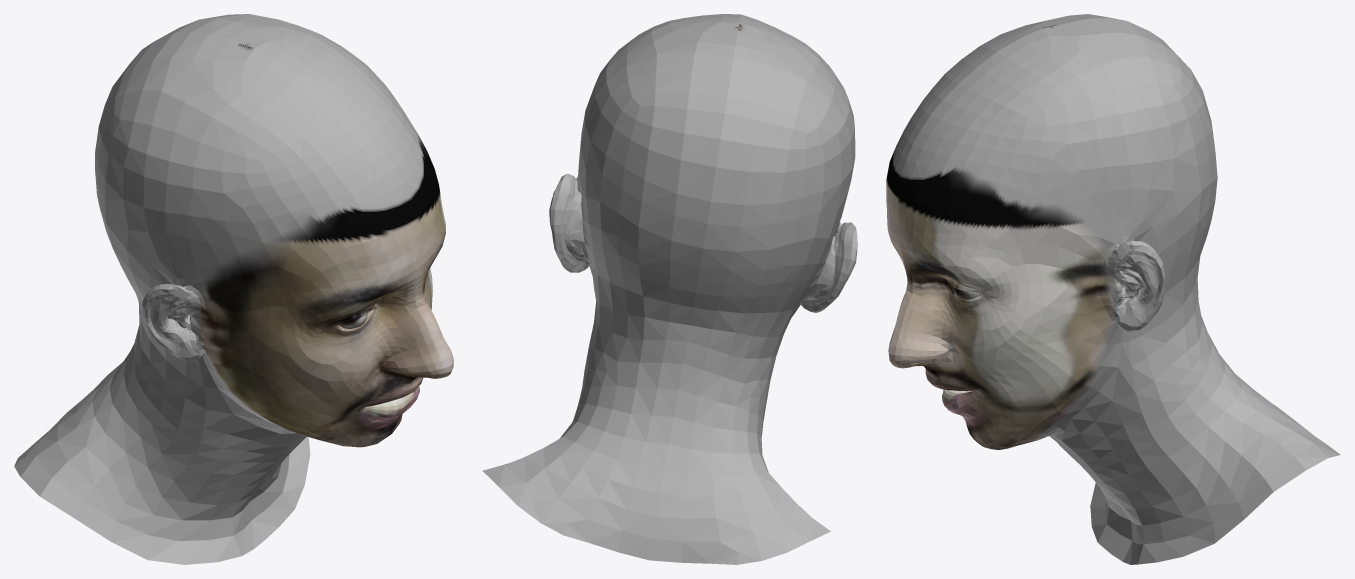
The model's file is ezgif-frame-059.obj.
3 renders of one model, left to right at view 1: azimuth 30°, elevation 25°; view 2: azimuth 150°, elevation 25°; view 3: azimuth 270°, elevation 25°, orthographic. The views are drawn at different scales.
Bounding box in the file's own units: 0.1959 × 0.3236 × 0.2613.
1 material, 1 textured.
